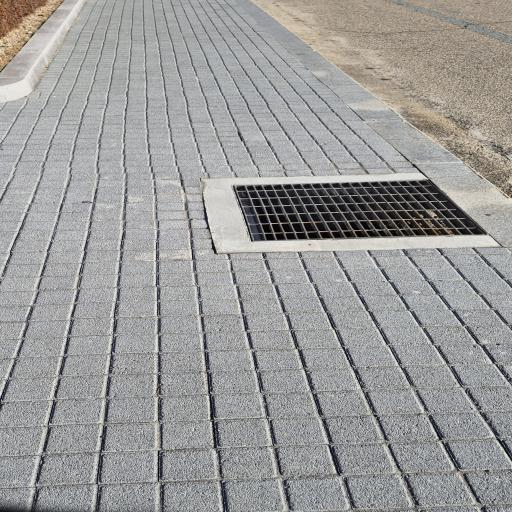drain: (234, 180, 483, 241)
